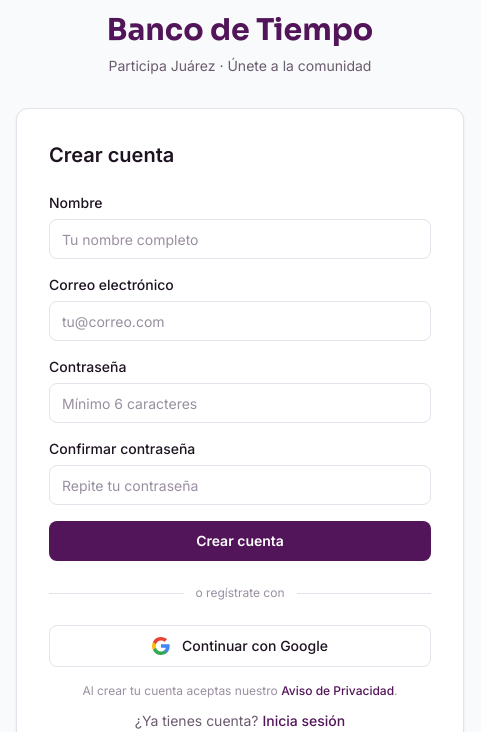
RegisterPage › muestra error si contraseña es muy corta
The image size is (481, 732).
Type "Test" into the field with placeholder "Tu nombre completo" at [240, 239], box [49,219,431,259]
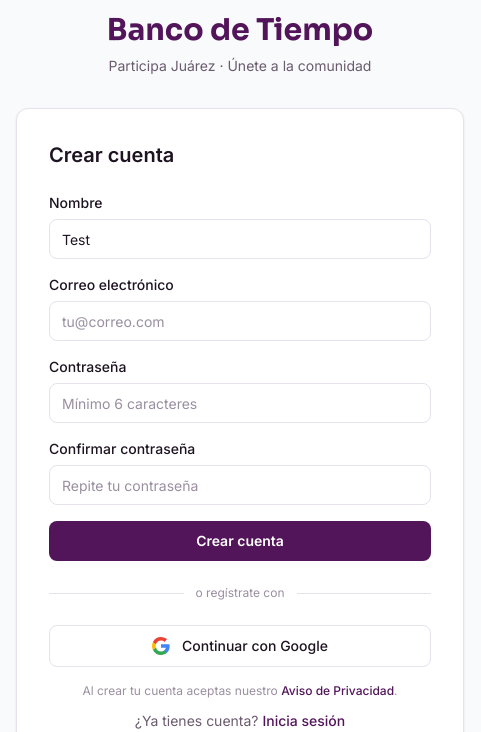
Type "a@b.com" into the field with placeholder "tu@correo.com" at [240, 321], box [49,301,431,341]
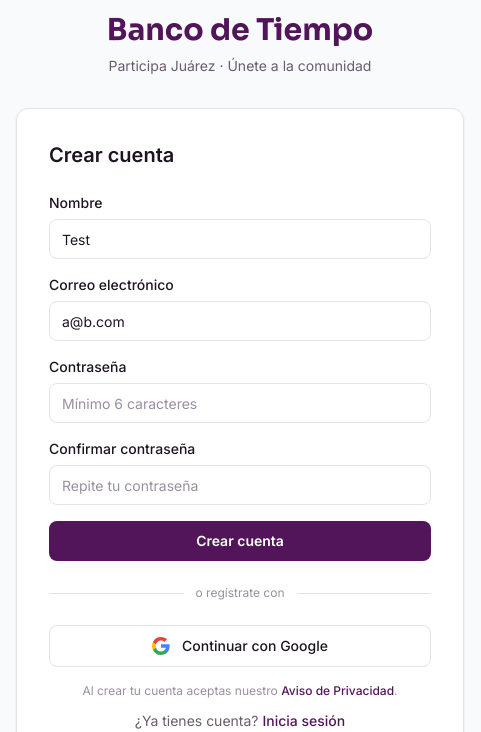
Type "123" into the password field with placeholder "Mínimo 6 caracteres" at [240, 403], box [49,383,431,423]
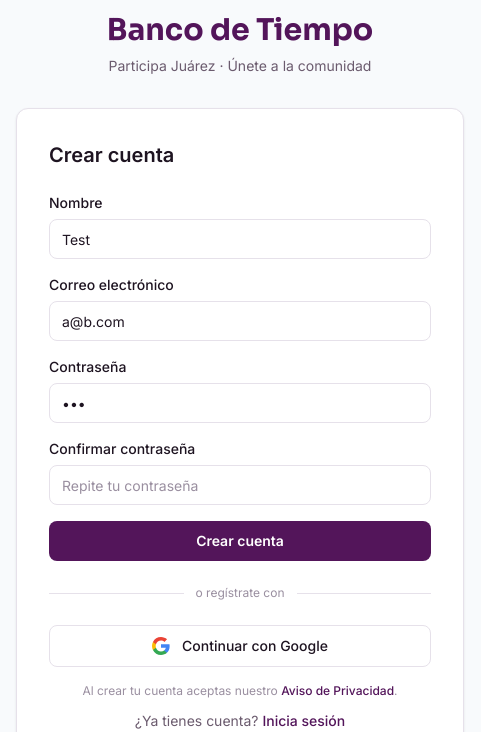
Type "123" into the password field with placeholder "Repite tu contraseña" at [240, 485], box [49,465,431,505]
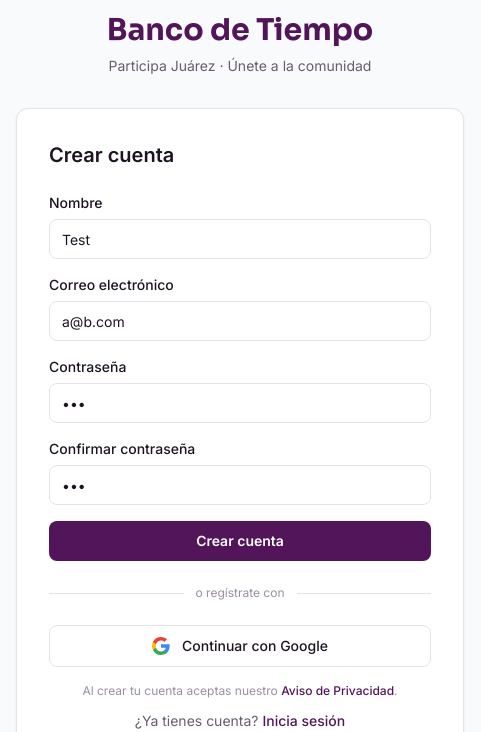
Click the button "Crear cuenta" at [240, 541], box [49,521,431,561]
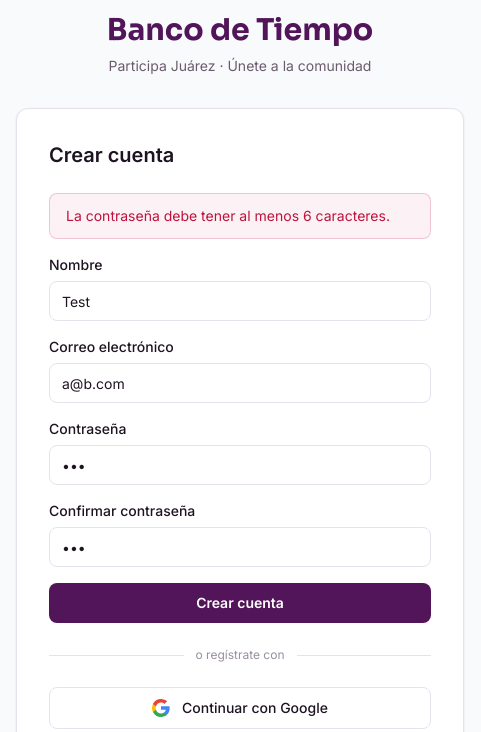
Result: the text "La contraseña debe tener al menos 6 caracteres." is shown at [49,193,431,239]
